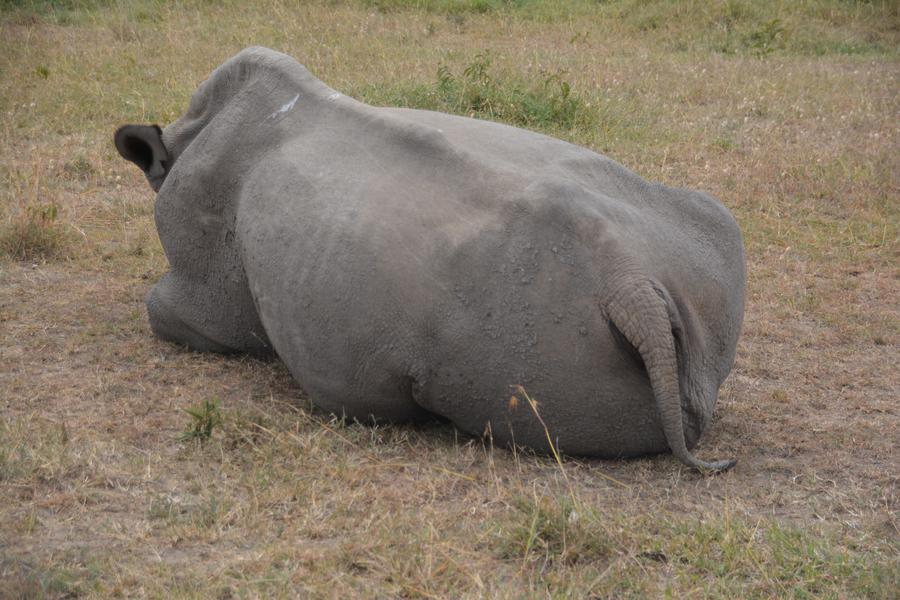rhino: (141, 30, 711, 501)
